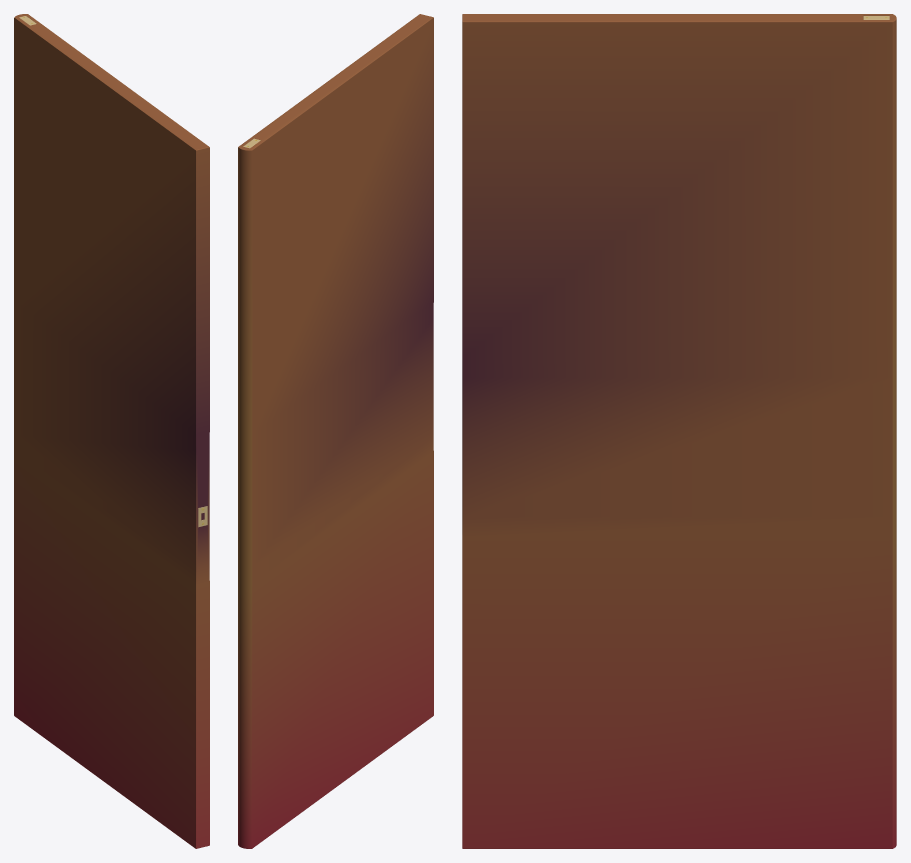
The model's file is Kit_DoorLeaf_Veneer_DA.fbx.
3 views of the same model, side by side, from view 1: azimuth 30°, elevation 25°; view 2: azimuth 150°, elevation 25°; view 3: azimuth 270°, elevation 25° (orthographic). The views are drawn at different scales.
Parts seen in each view (by area): view 1: Kit_DoorLeaf_Veneer_DA_LOD0; view 2: Kit_DoorLeaf_Veneer_DA_LOD0; view 3: Kit_DoorLeaf_Veneer_DA_LOD0.
Boxes of the visible parts, <box> form: Kit_DoorLeaf_Veneer_DA_LOD0: <box>14,14,209,848</box>; Kit_DoorLeaf_Veneer_DA_LOD0: <box>238,14,433,848</box>; Kit_DoorLeaf_Veneer_DA_LOD0: <box>462,14,896,848</box>.
Size of what is drawn, in the model's own units: 0.044 by 2.08 by 0.9902.
